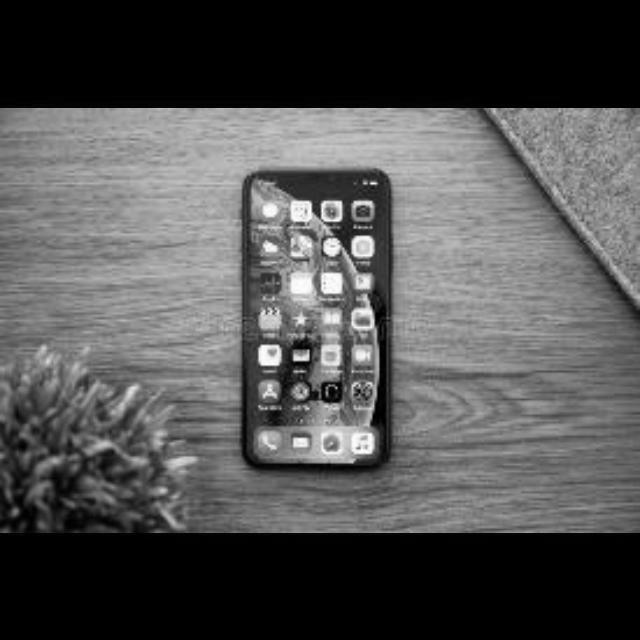fake: (236, 168, 392, 471)
